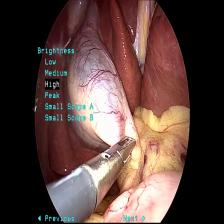Grasper: (105, 128, 136, 176)
